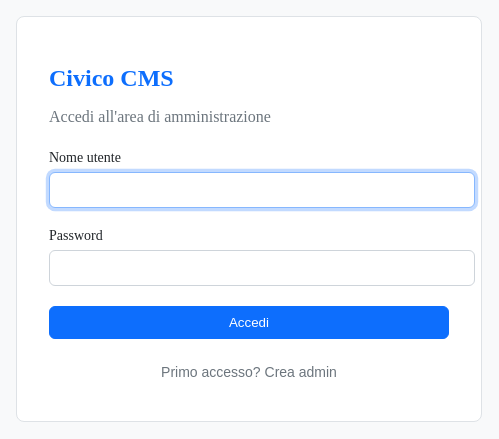
Test: LoginPage › switches to bootstrap mode
Click the button "Primo accesso? Crea admin": (249, 372) [144,355,354,389]
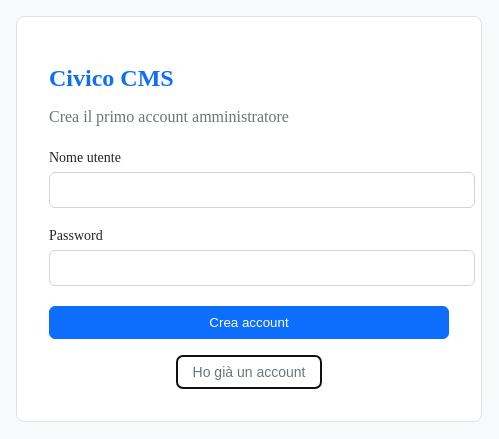
Check: the button "Crea account" is shown, box [49,306,449,339]
